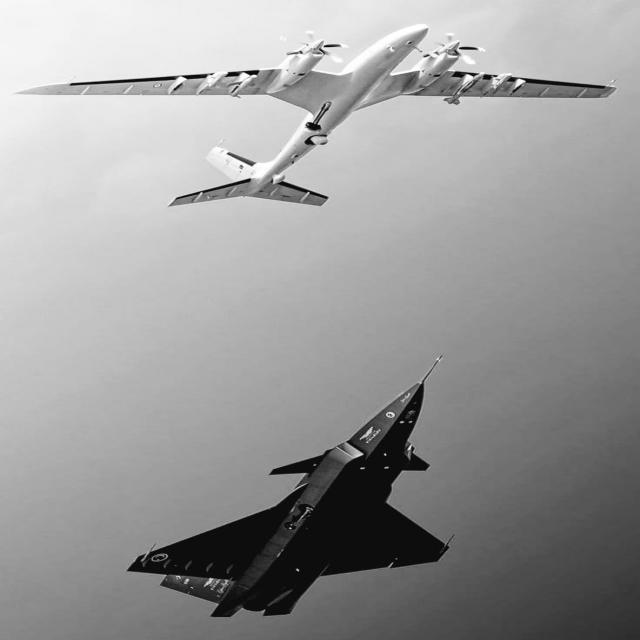iha: (4, 0, 615, 205)
